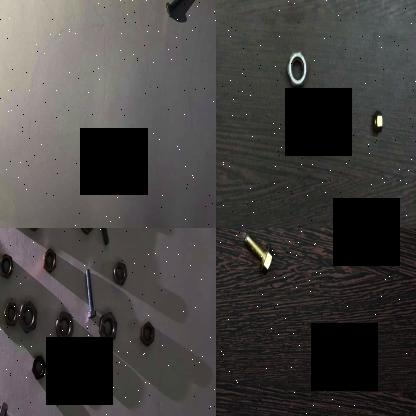Bolts: (241, 228, 272, 275), (81, 266, 95, 322), (91, 228, 110, 246)
NUTS: (285, 46, 309, 94), (54, 306, 76, 346), (97, 307, 117, 347), (18, 298, 37, 332), (110, 259, 128, 290), (3, 299, 18, 330), (42, 244, 56, 276), (31, 352, 45, 383), (0, 248, 13, 280), (372, 106, 384, 138), (138, 320, 150, 344), (79, 228, 92, 238)
